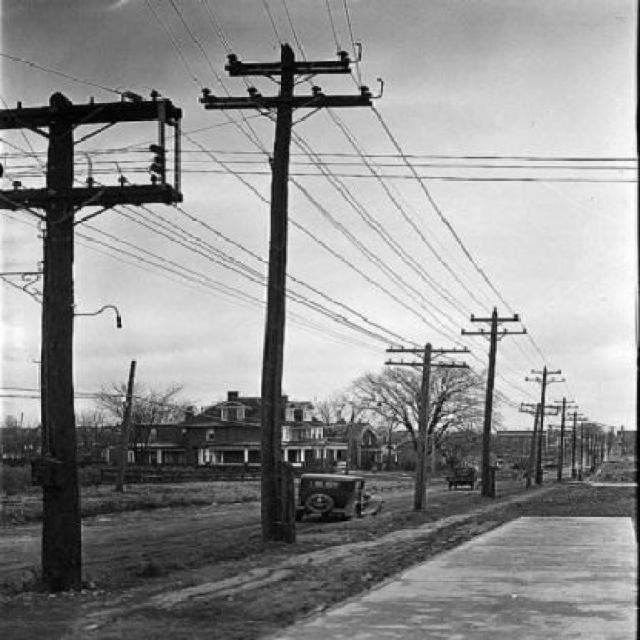pole: (3, 83, 185, 582), (198, 48, 378, 532), (386, 340, 474, 511), (468, 304, 526, 502)
